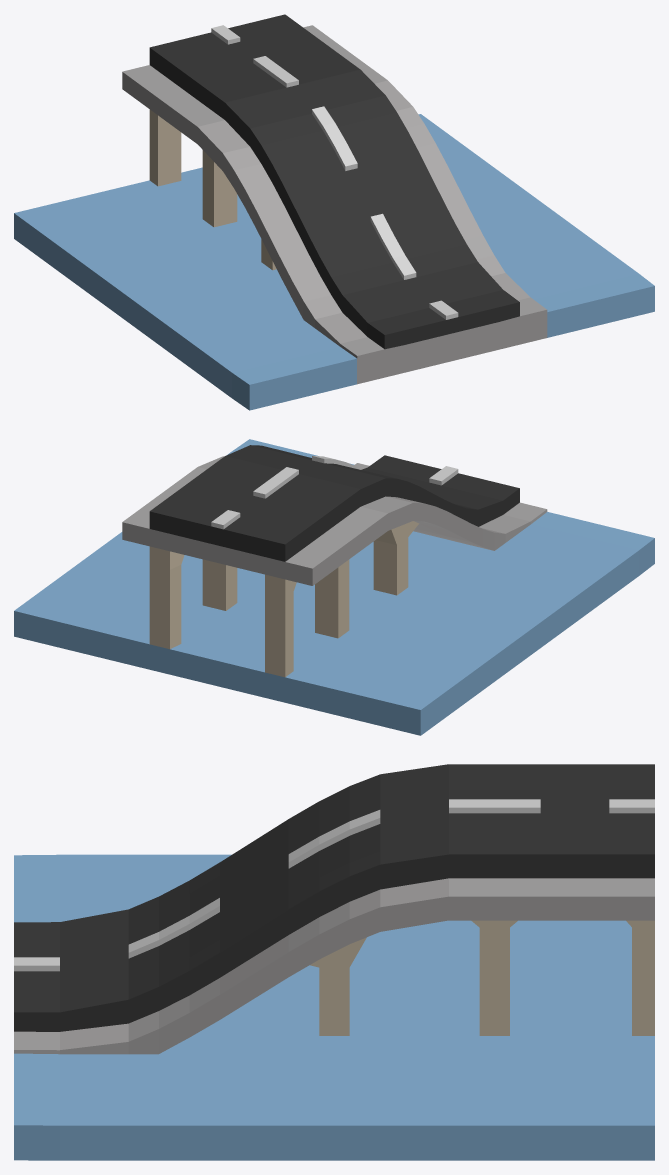
The model's file is quaternius-street-street-bridge-water-ramp.glb.
3 views of the same model, one above another, from view 1: azimuth 30°, elevation 25°; view 2: azimuth 150°, elevation 25°; view 3: azimuth 270°, elevation 25° (orthographic). The views are drawn at different scales.
Parts seen in each view (by area): view 1: Street_Ramp_Water; view 2: Street_Ramp_Water; view 3: Street_Ramp_Water.
Part boxes in pixels (x1,y1,x2,y2): Street_Ramp_Water: (14, 14, 654, 410); Street_Ramp_Water: (14, 439, 654, 735); Street_Ramp_Water: (14, 764, 654, 1160).
Size of the model in its own units: 2 by 0.7638 by 2.
1 material, 1 textured.
